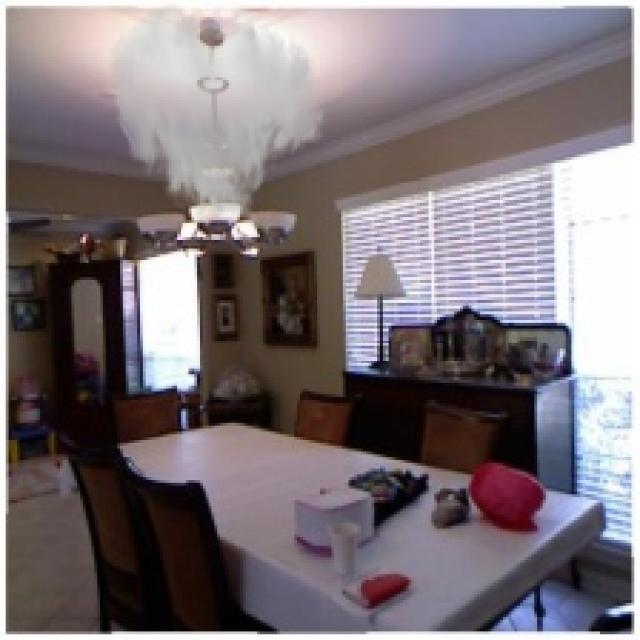Smoke: (105, 0, 329, 232)
